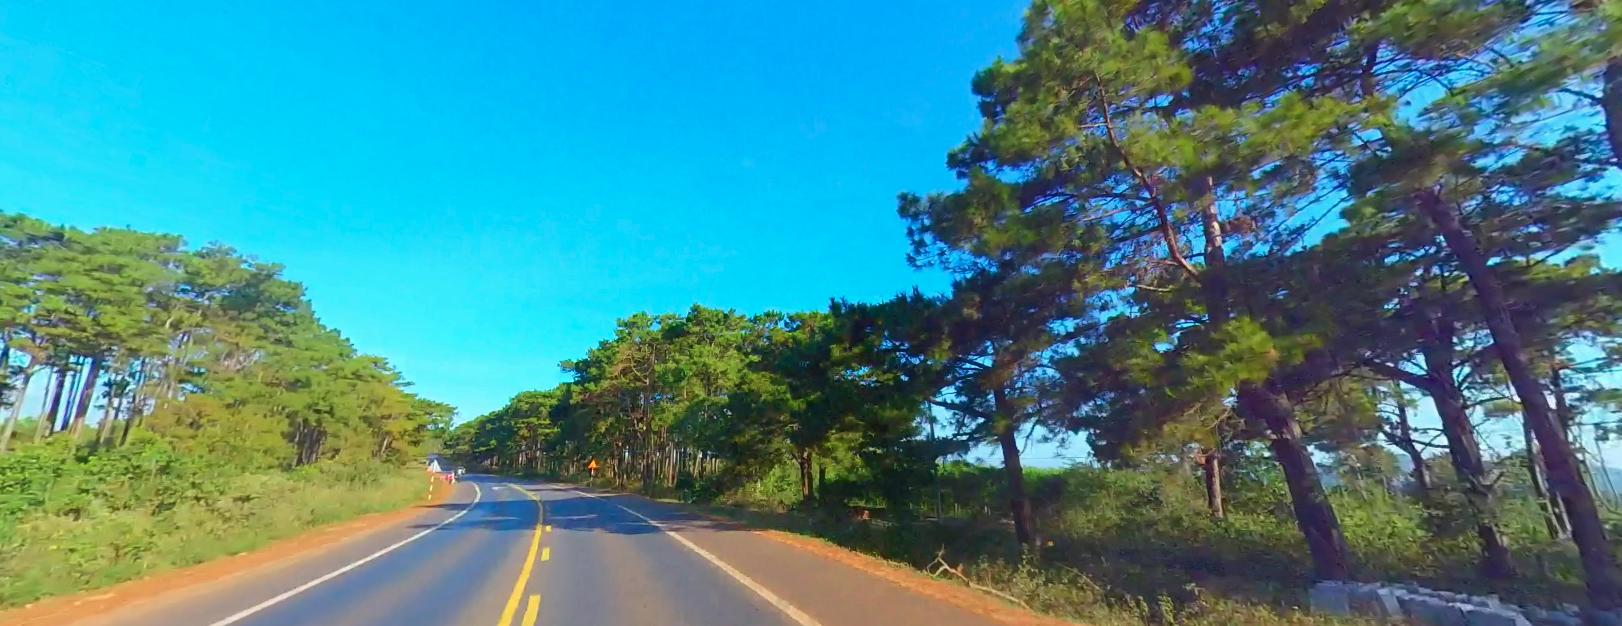Nguy hiem: (587, 457, 598, 467), (585, 457, 598, 466)
